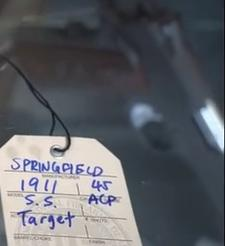gun: (1, 1, 225, 246)
